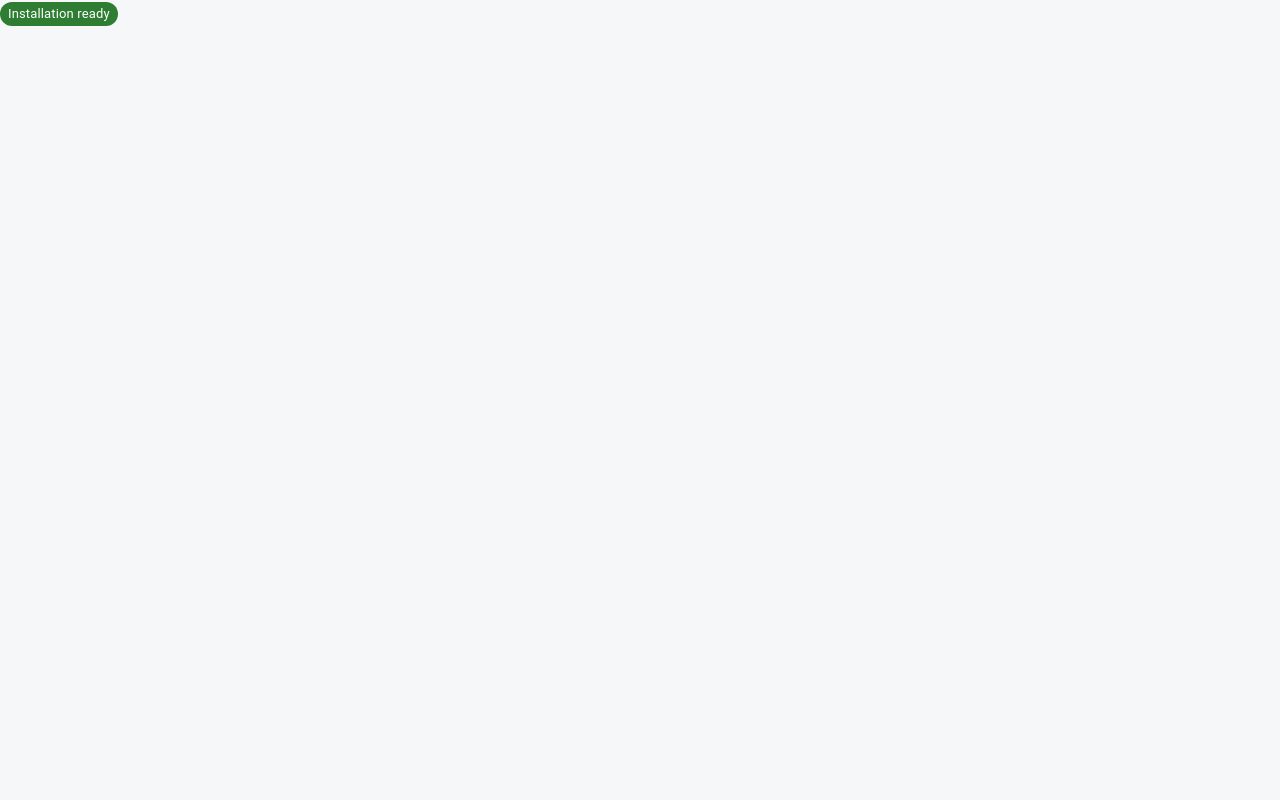
Scenario: HealthChip › nothing needing attention is said, not left blank
Click the button with test id "health-chip". click: [59, 14]
box: left=0, top=2, right=118, bottom=26
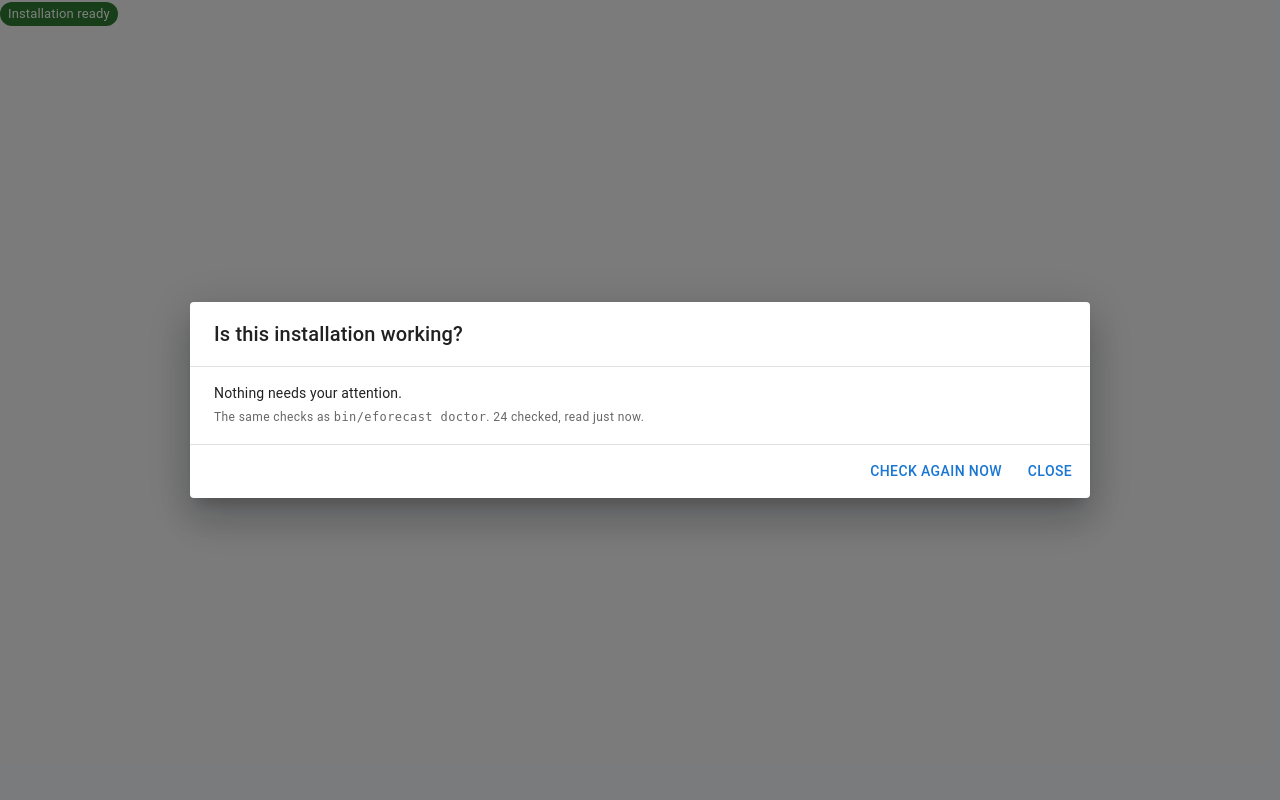
expect the text "Nothing needs your attention." is shown: met, box left=214, top=385, right=402, bottom=401
